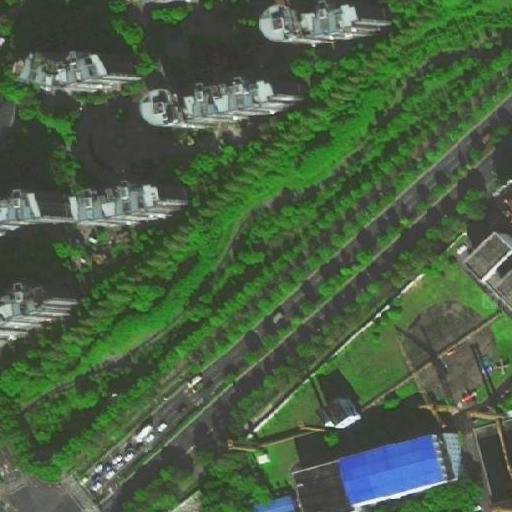building: (344, 432, 458, 506), (0, 268, 102, 346), (177, 92, 309, 138), (267, 0, 383, 41), (85, 183, 188, 224), (465, 420, 511, 511), (460, 230, 511, 312), (8, 50, 109, 90), (0, 189, 69, 235), (295, 460, 357, 511), (326, 399, 359, 427), (250, 492, 296, 512)
